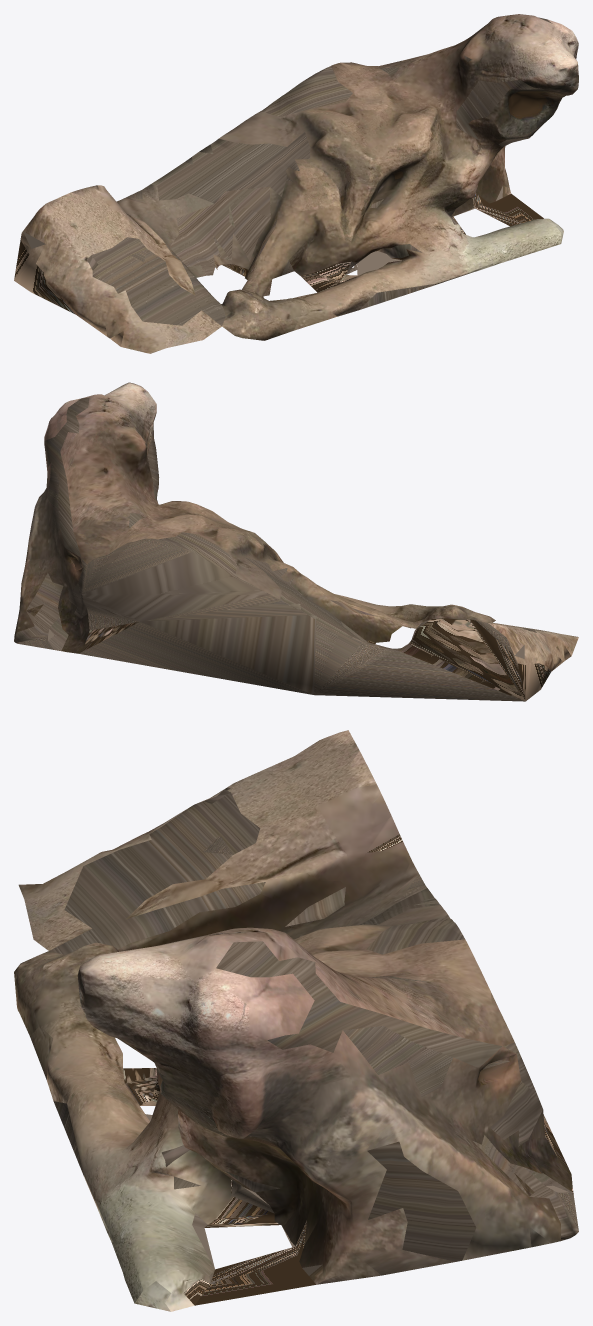
3 renders of one model, top to bottom at view 1: azimuth 30°, elevation 25°; view 2: azimuth 150°, elevation 25°; view 3: azimuth 270°, elevation 25°, orthographic. The views are drawn at different scales.
Visible parts, largest first — view 1: Mesh_0; view 2: Mesh_0; view 3: Mesh_0.
Part boxes in pixels (bbox=[...]): Mesh_0: bbox=[14, 14, 578, 353]; Mesh_0: bbox=[14, 382, 578, 701]; Mesh_0: bbox=[14, 730, 578, 1311].
Size of the model in its own units: 4.22 by 1.61 by 2.26.
4 materials, 4 textured.
